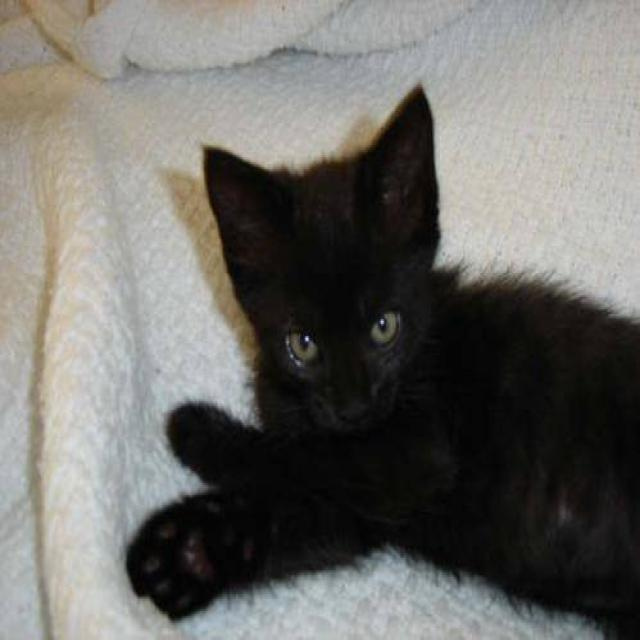cat: (124, 82, 639, 638)
